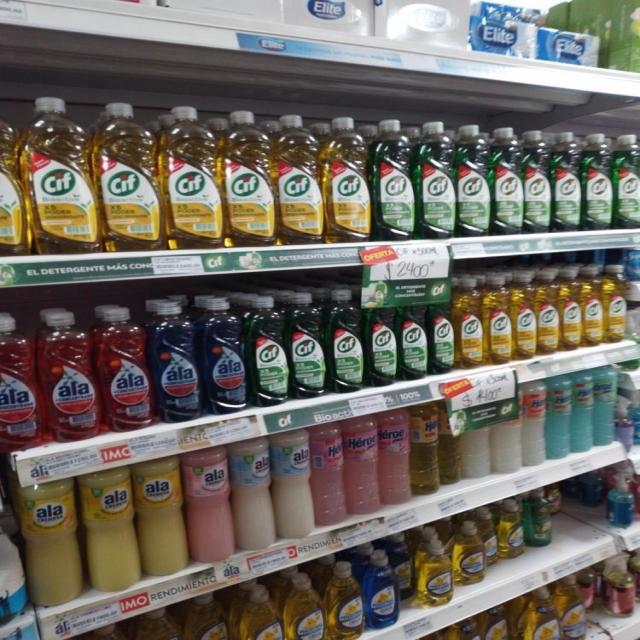ala_conc_azul: (152, 299, 200, 424), (202, 296, 247, 414)
ala_conc_rojo: (41, 309, 98, 444), (100, 304, 151, 432), (0, 313, 39, 451)
ala_crem_amarillo: (22, 476, 80, 606), (82, 466, 136, 593), (137, 456, 185, 578)
ala_crem_blanco: (232, 436, 274, 552), (273, 428, 312, 541)
ala_crem_rosado: (186, 446, 232, 565)
cif_conc_bot_amarilla: (24, 95, 94, 254), (98, 100, 160, 253), (163, 104, 221, 251), (223, 109, 274, 249), (276, 113, 322, 245), (324, 116, 371, 244), (0, 94, 22, 258), (455, 276, 483, 371), (484, 274, 511, 366), (512, 272, 536, 361), (537, 269, 559, 356), (581, 266, 603, 348), (560, 267, 581, 352), (604, 267, 627, 344)
cif_conc_botella_verde: (373, 118, 415, 241), (416, 120, 455, 240), (248, 294, 287, 407), (456, 123, 491, 238), (289, 291, 325, 400), (327, 288, 362, 394), (492, 126, 522, 236), (365, 286, 397, 388), (552, 130, 581, 234), (583, 132, 613, 232), (524, 129, 551, 235), (398, 292, 428, 382), (614, 133, 640, 230), (428, 287, 454, 375)
heroe: (312, 420, 345, 529), (345, 414, 379, 517), (379, 408, 409, 507), (410, 402, 440, 498), (522, 380, 546, 467), (546, 374, 570, 460), (572, 371, 594, 455)
magistral_con_amarillo: (414, 526, 452, 608), (326, 560, 363, 640), (285, 572, 324, 640), (237, 583, 283, 640), (185, 592, 230, 640), (519, 585, 558, 640), (453, 520, 485, 586), (559, 576, 588, 640), (498, 498, 524, 561), (135, 606, 182, 640), (483, 603, 511, 640), (447, 615, 484, 640), (91, 622, 133, 640)
magistral_con_azul: (365, 549, 398, 630)
